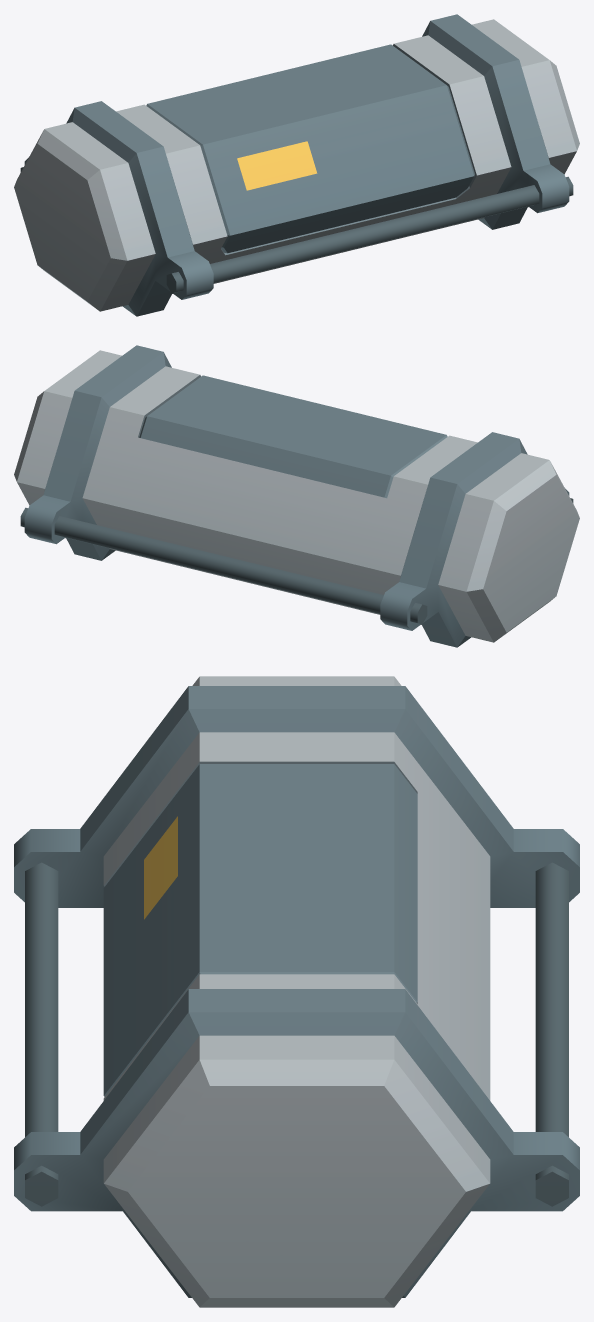
The model's file is Crate_003.glb.
3 renders of one model, top to bottom at view 1: azimuth 30°, elevation 25°; view 2: azimuth 150°, elevation 25°; view 3: azimuth 270°, elevation 25°, orthographic. The views are drawn at different scales.
Parts seen in each view (by area): view 1: Crate_003; view 2: Crate_003; view 3: Crate_003.
Boxes of the visible parts, <box> form: Crate_003: <box>14,14,579,316</box>; Crate_003: <box>14,345,579,647</box>; Crate_003: <box>14,676,579,1307</box>.
Size of the model in its own units: 1.2 by 0.4 by 0.7178.
Materials: 1 (1 with a texture image).
